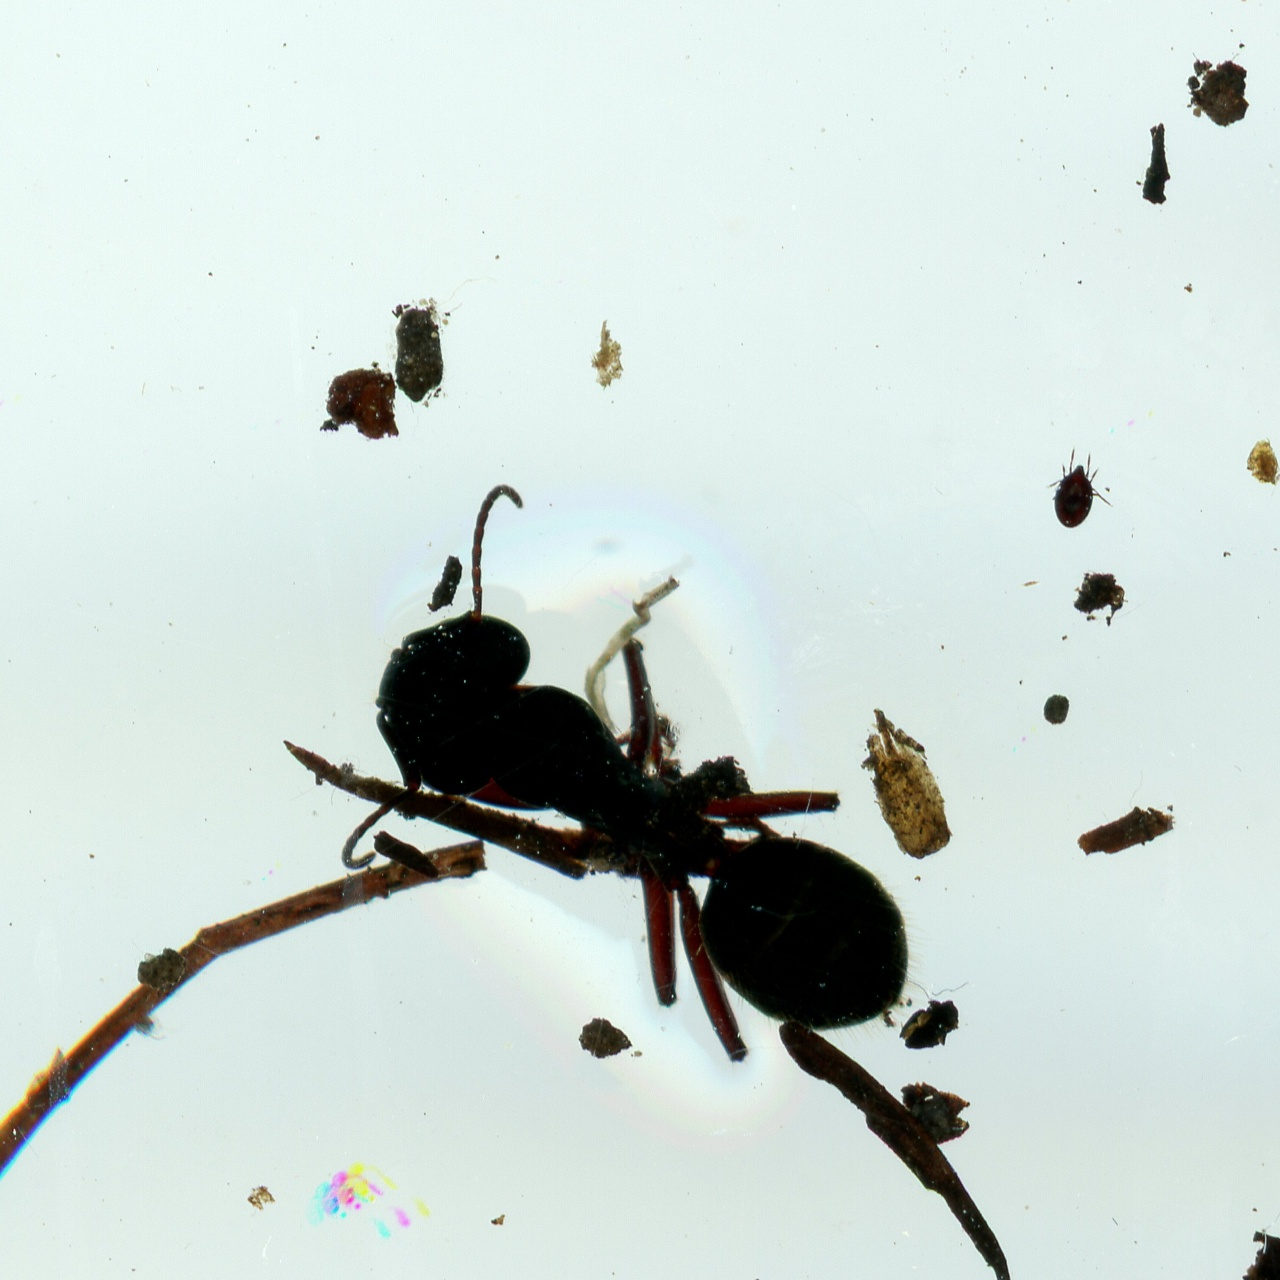arthropod: (277, 443, 1034, 1121), (1042, 443, 1116, 536)
